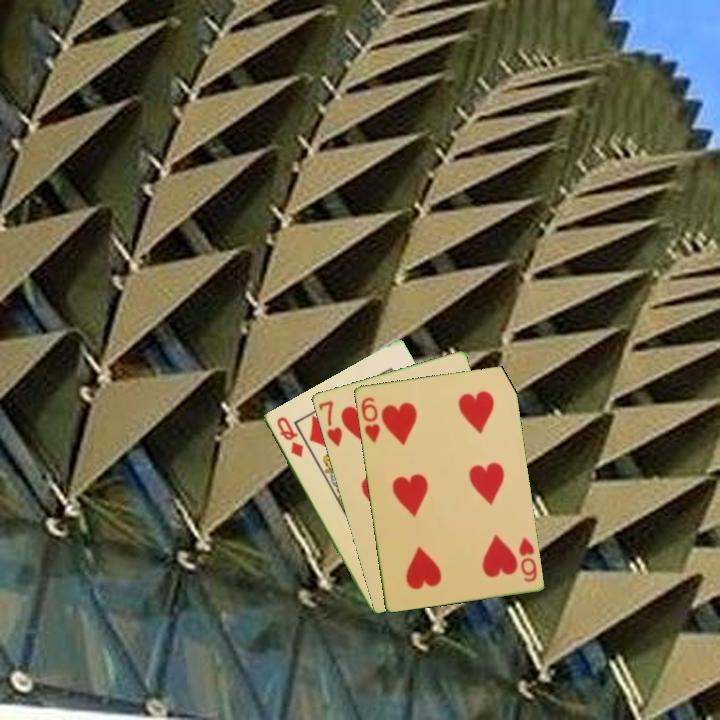6h: (357, 393, 383, 445), (515, 534, 540, 585)
7h: (314, 397, 345, 449)
Qd: (273, 413, 306, 460)
